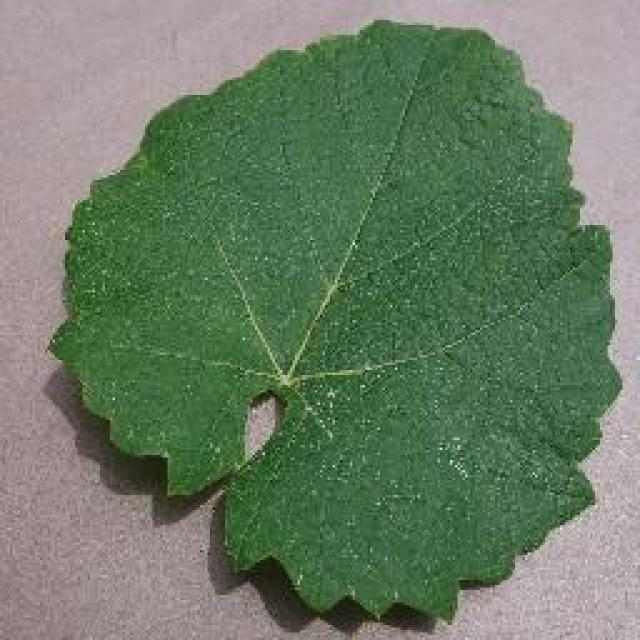Healthy: (82, 3, 612, 634)
